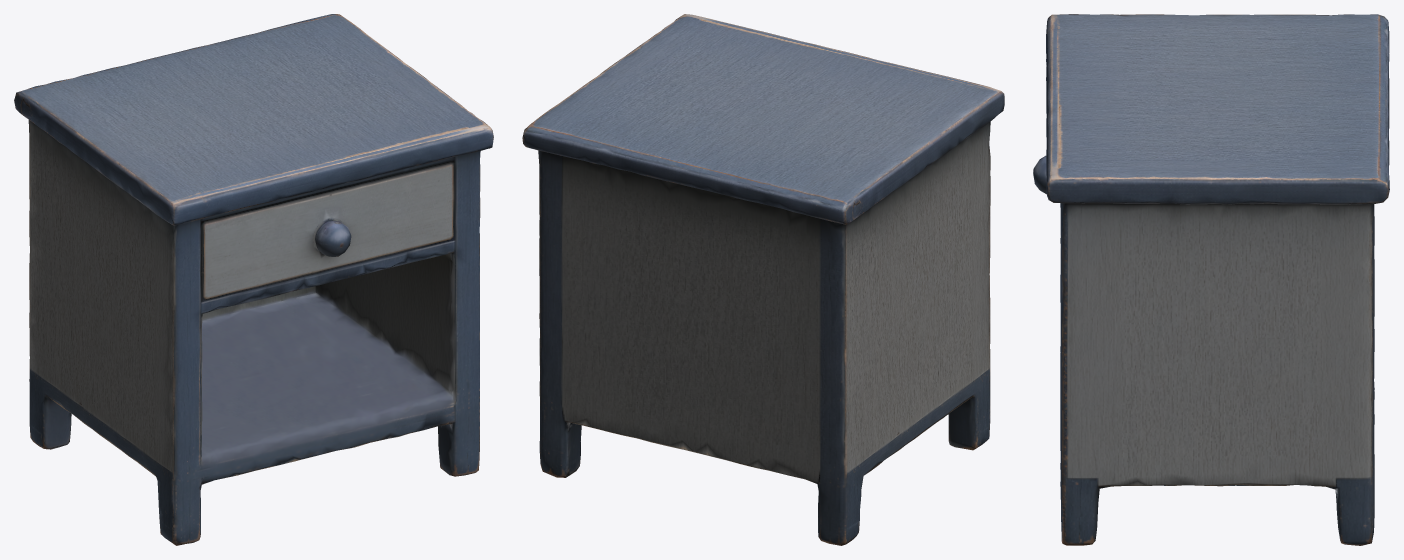
The model's file is VAR_Bedroom_Nightstand.fbx.
3 renders of one model, left to right at view 1: azimuth 30°, elevation 25°; view 2: azimuth 150°, elevation 25°; view 3: azimuth 270°, elevation 25°, orthographic. The views are drawn at different scales.
Visible parts, largest first — view 1: texture_mapping; view 2: texture_mapping; view 3: texture_mapping.
Part boxes in pixels (x1,y1,x2,y2): texture_mapping: [14, 14, 493, 545]; texture_mapping: [522, 14, 1004, 545]; texture_mapping: [1033, 14, 1389, 545].
Bounding box in the file's own units: 0.9673 × 0.8667 × 1.
Materials: 1 (1 with a texture image).
